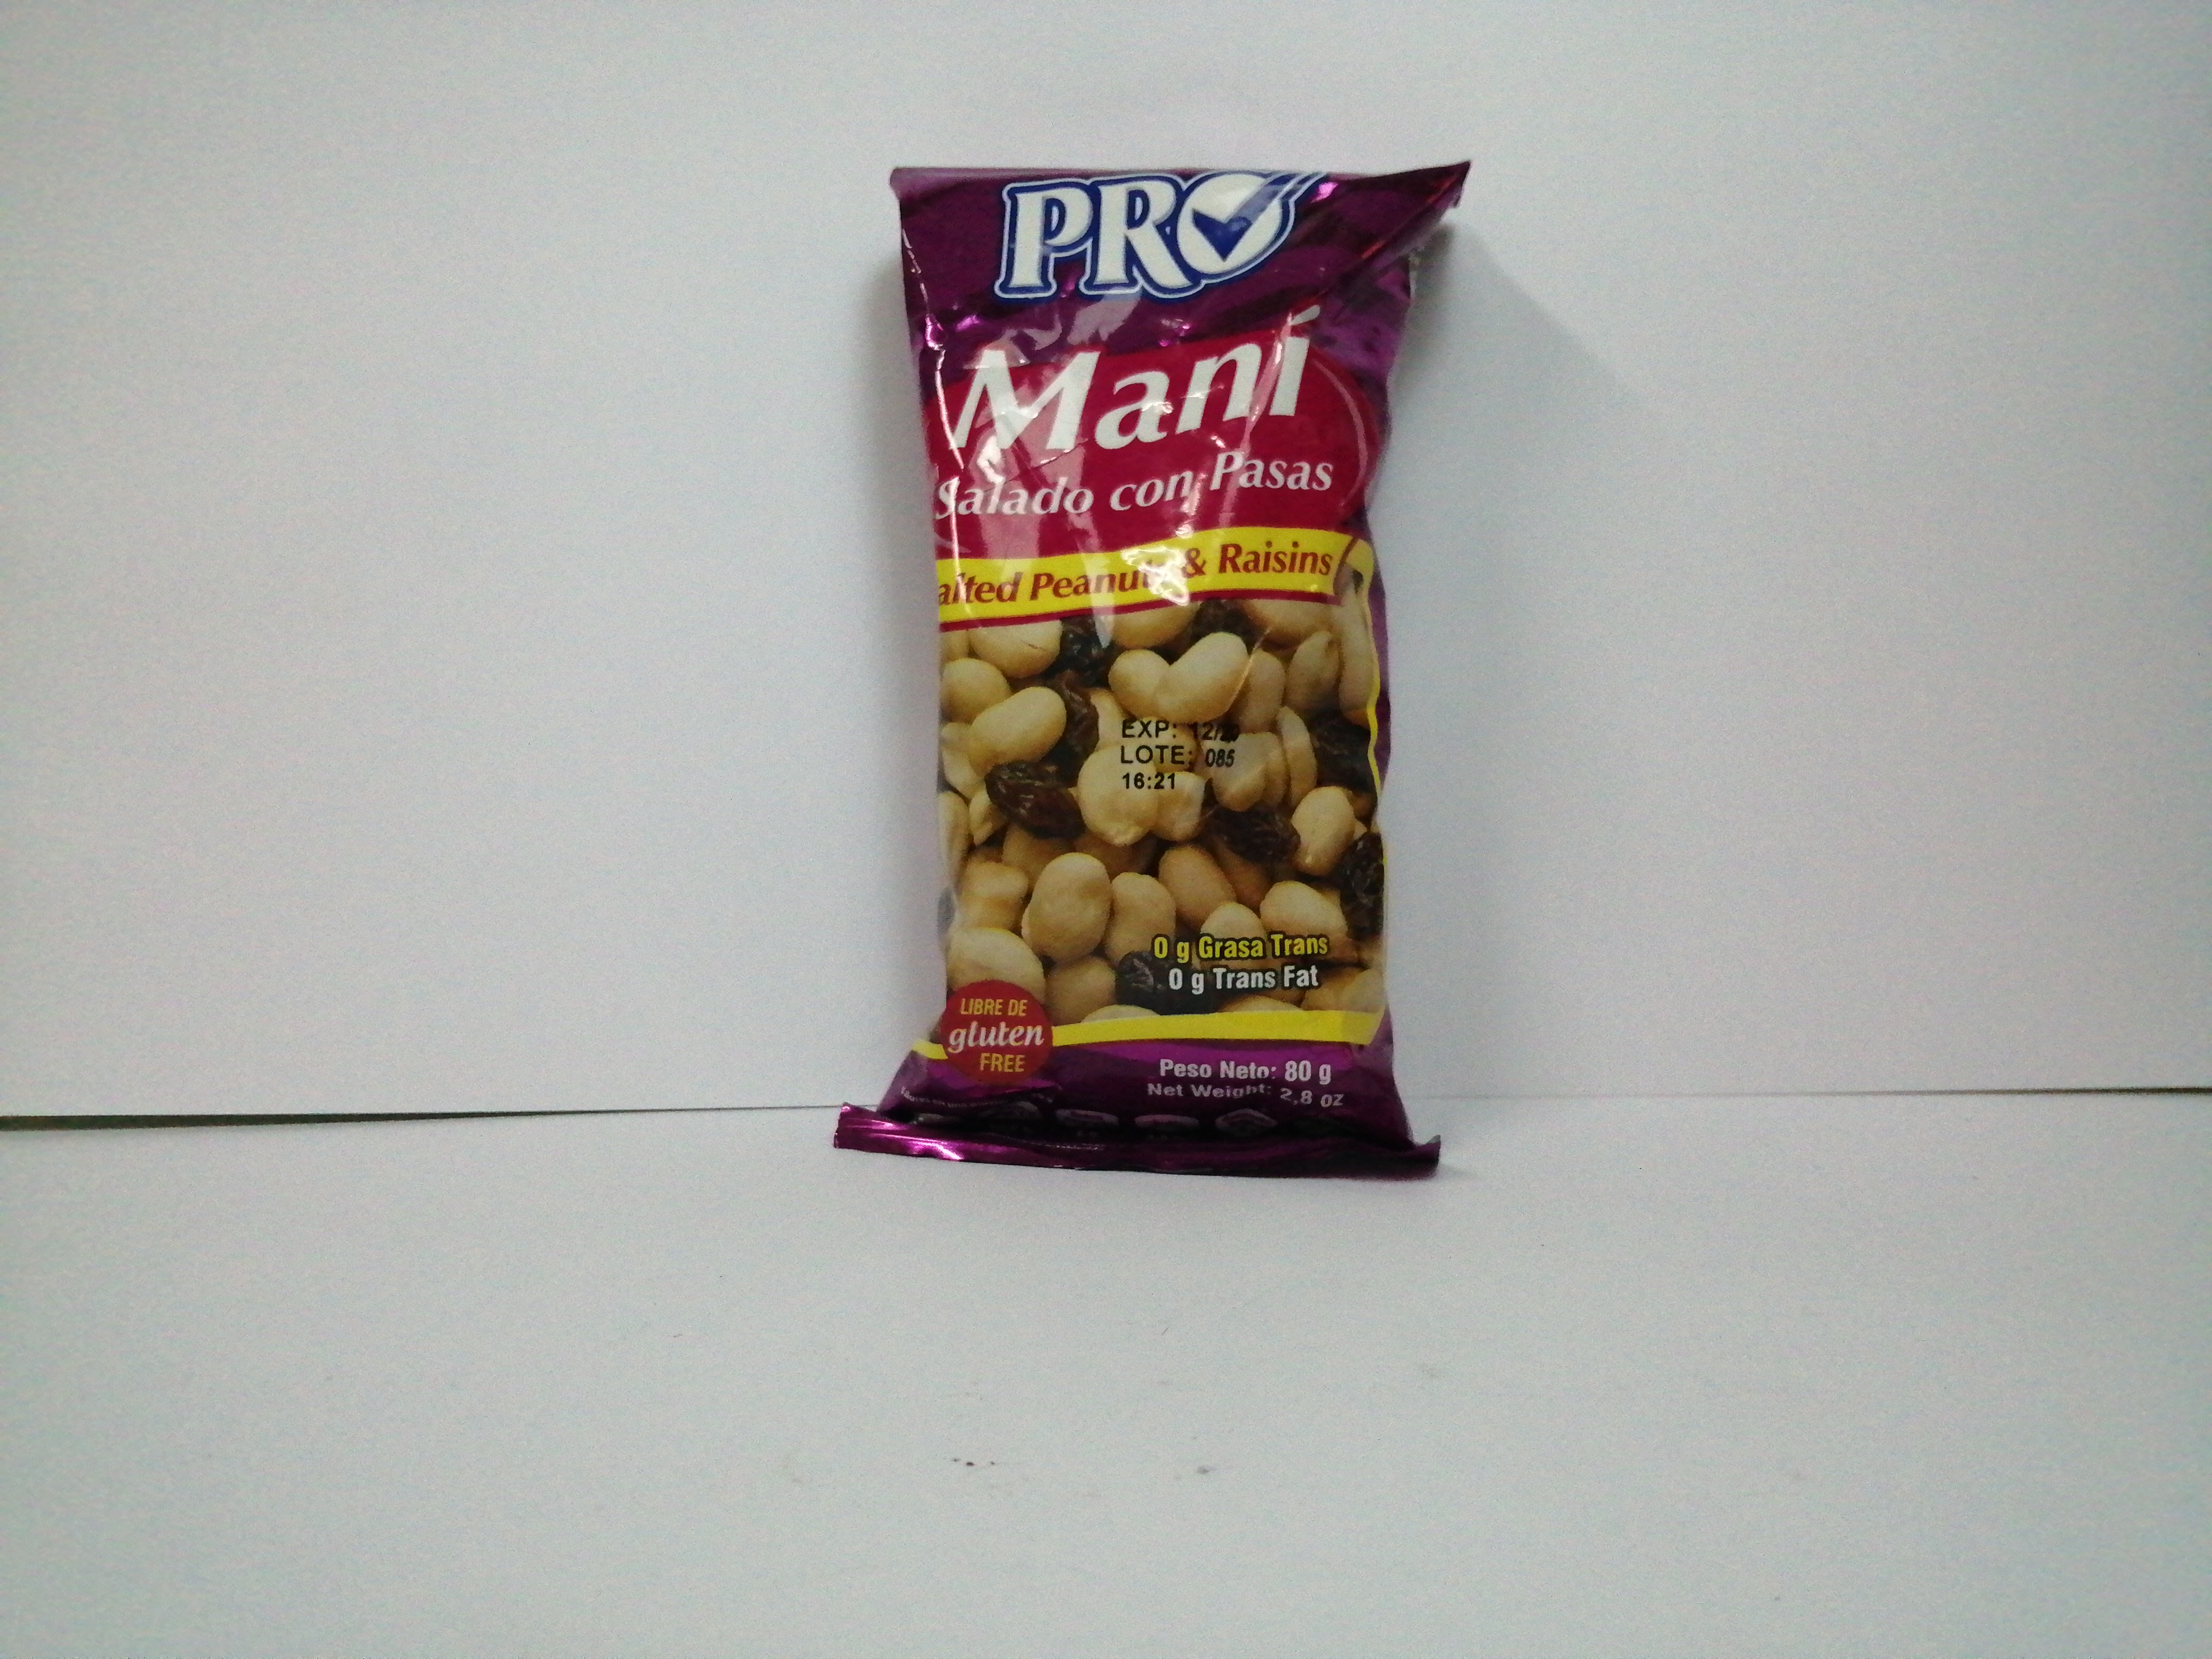mani: (838, 164, 1465, 1182)
